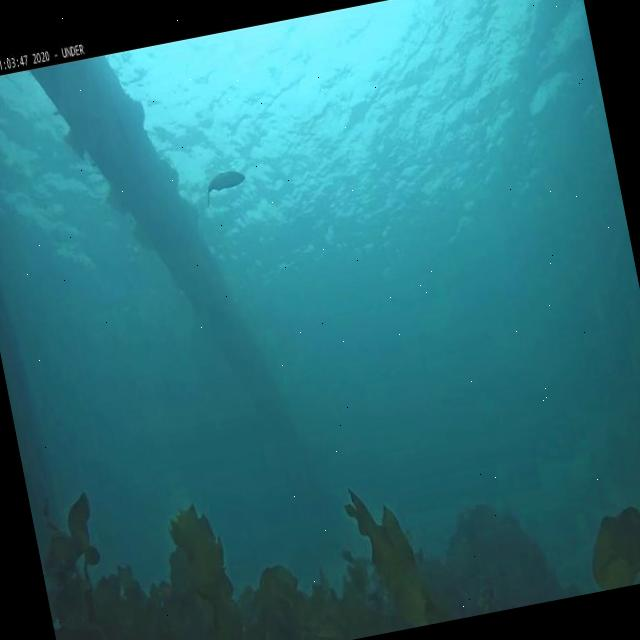fish: (204, 166, 250, 202)
